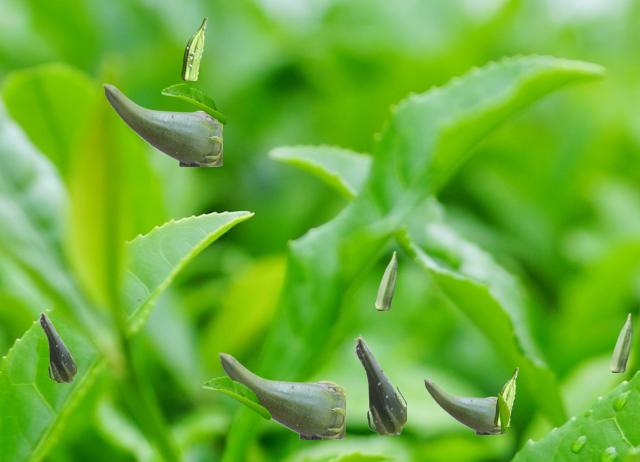okra: (218, 352, 344, 438), (102, 83, 221, 165), (353, 334, 405, 433), (423, 378, 504, 433), (38, 310, 75, 381), (181, 17, 206, 79), (494, 367, 517, 425), (375, 251, 396, 309), (610, 313, 631, 371)
